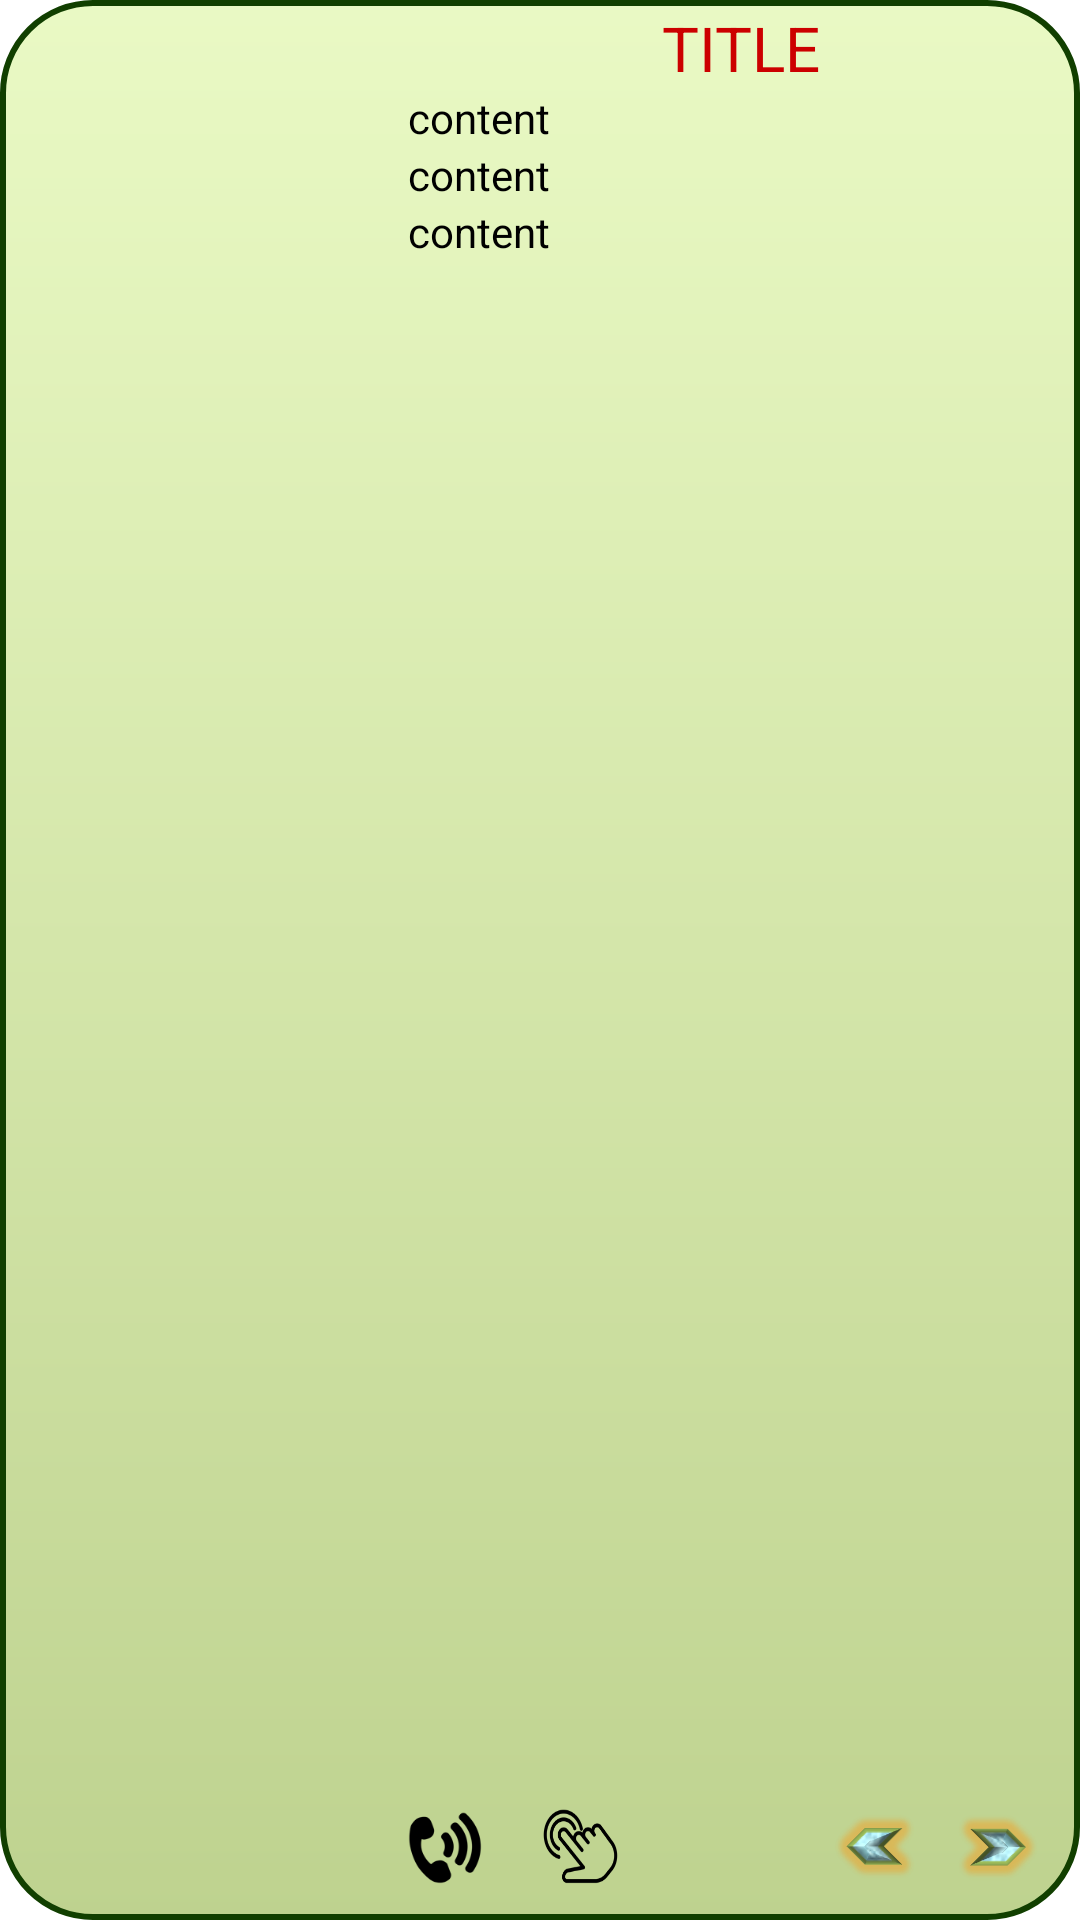

Screen size 1080*1920. Icon name, then its center in pixels as (x=x, y=y):
call: (x=445, y=1847)
